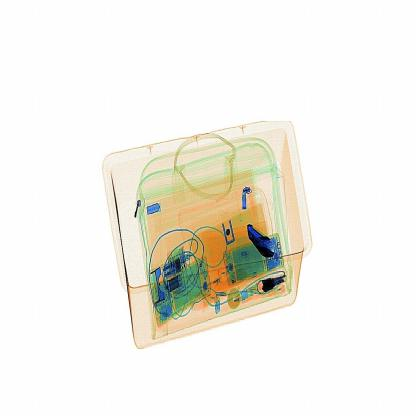pliers: (242, 218, 286, 266)
